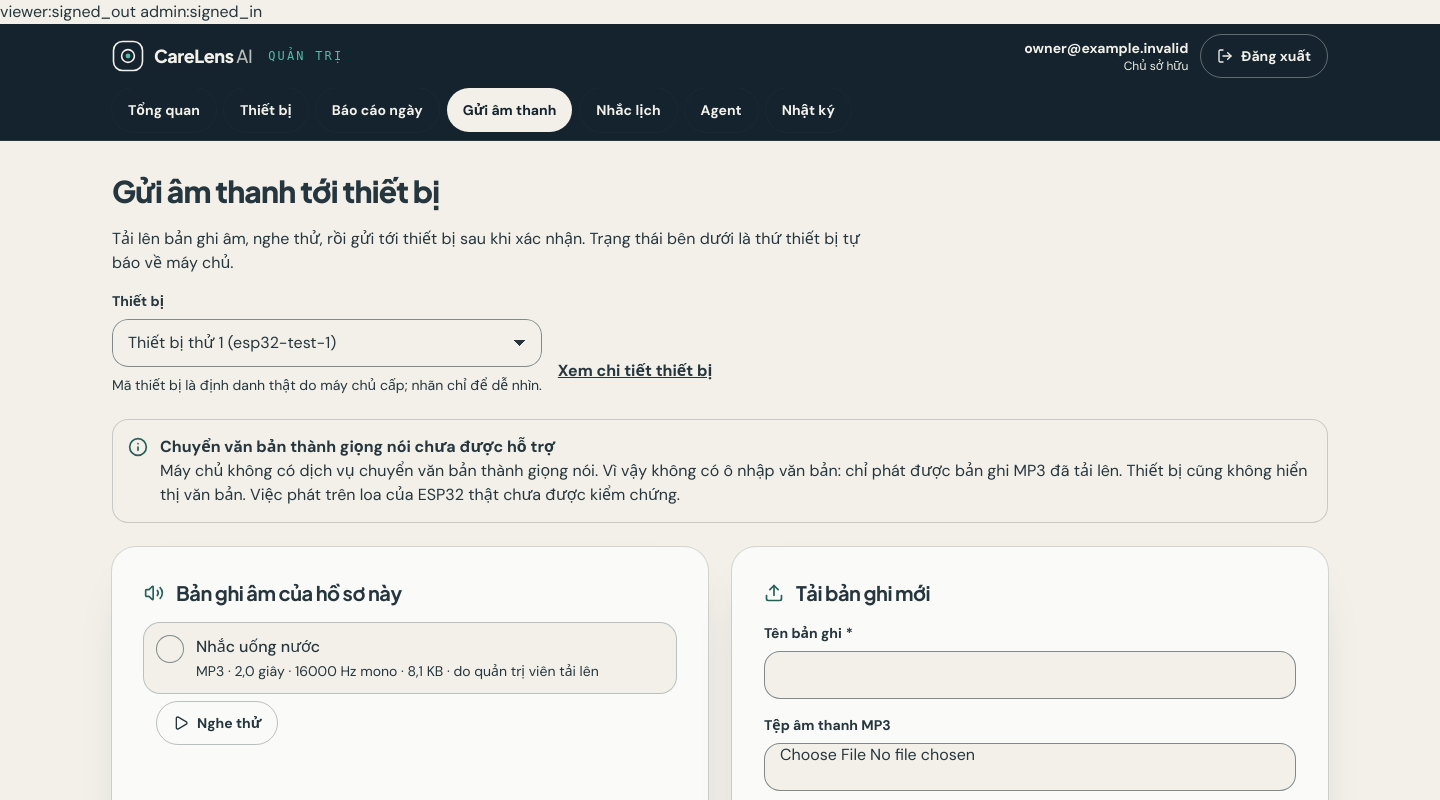
audio messages › keeps the same idempotency key after a send with an unknown outcome, so a retry cannot create a second command
Click the radio button labelled "Nhắc uống nước" at {"x": 258, "y": 646}, box [144,622,676,692]
(page scrolled)
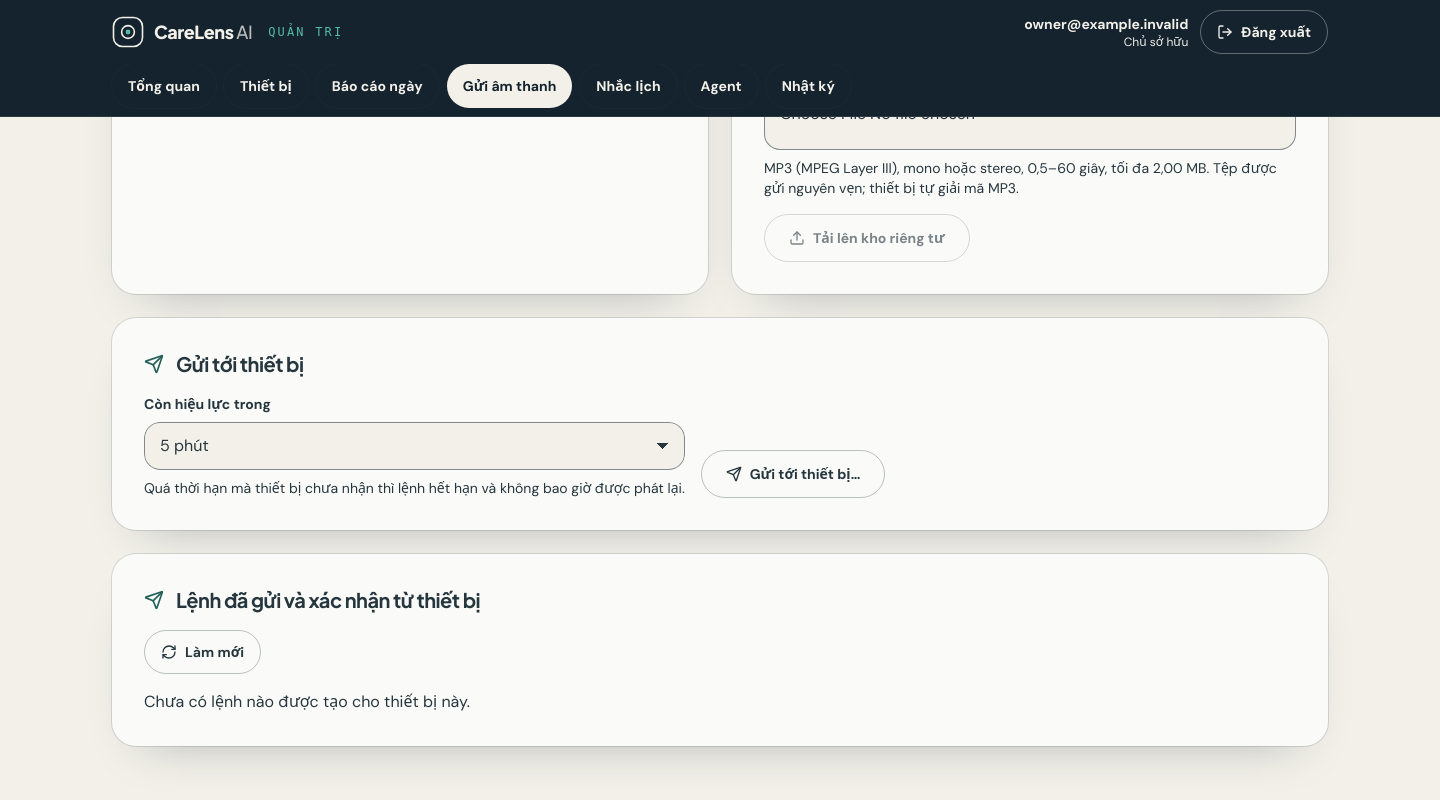
Click the button "Gửi tới thiết bị…" at {"x": 793, "y": 474}, box [701,450,885,498]
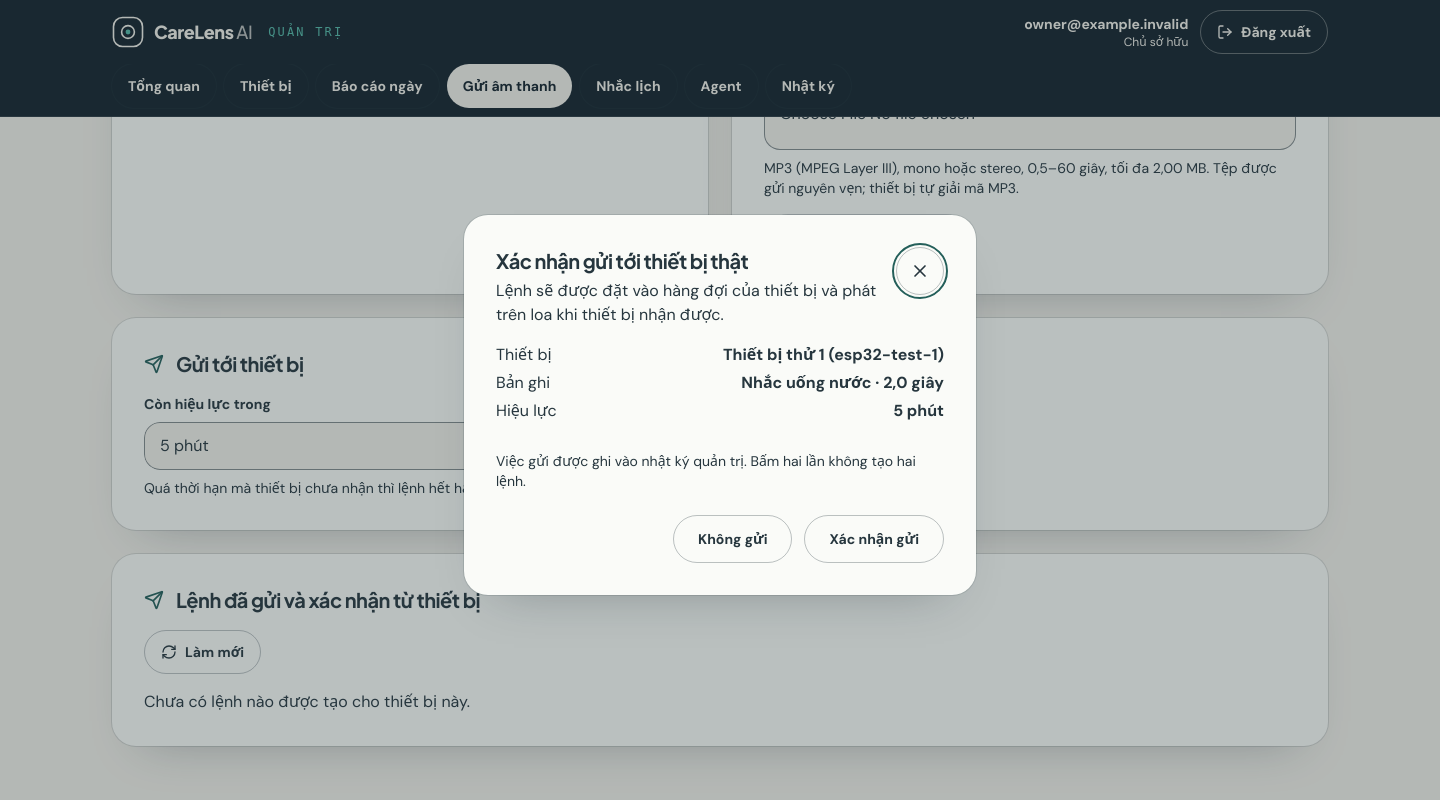
Click the button "Xác nhận gửi" at {"x": 874, "y": 539}, box [804,515,944,563]
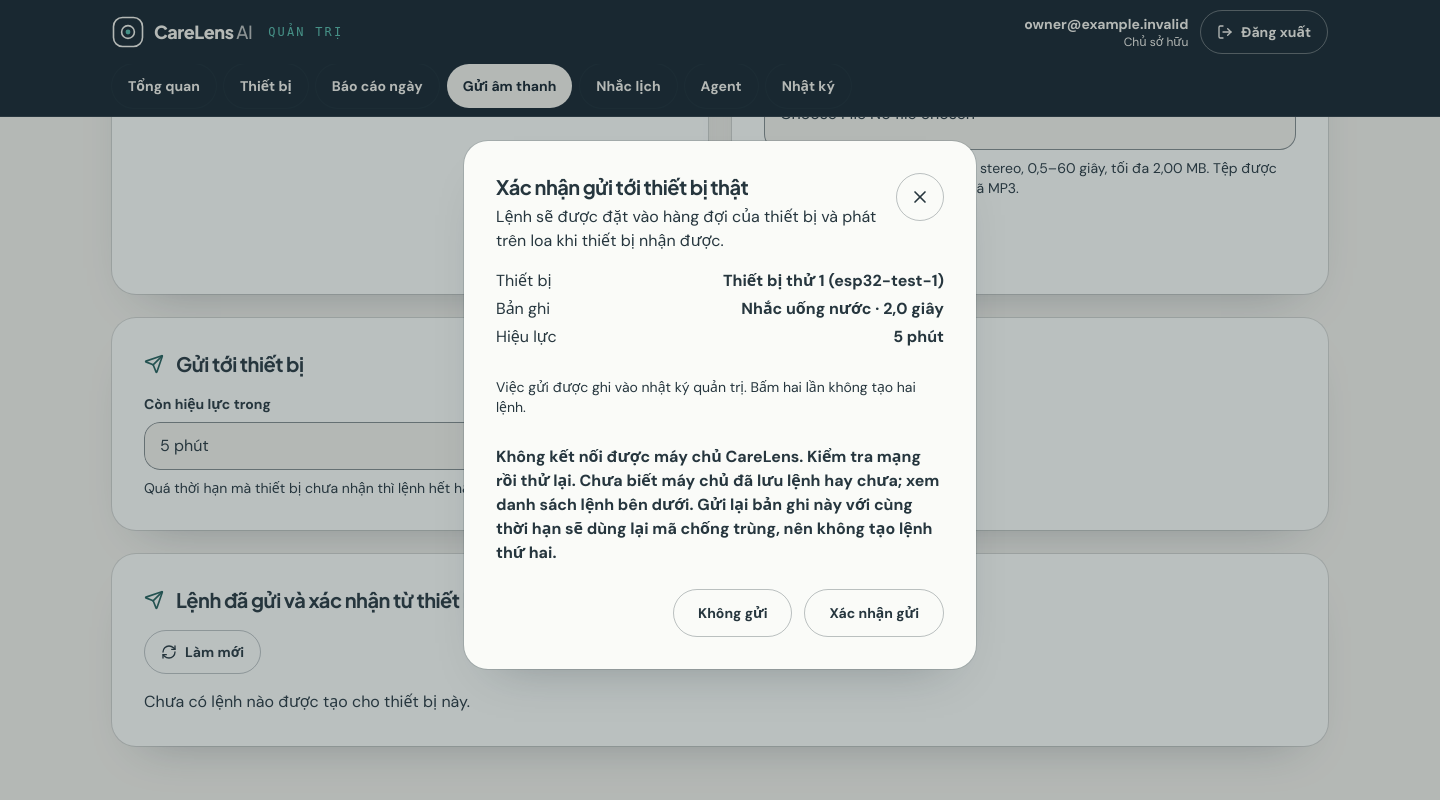
Expected: the text "Lệnh đã được máy chủ nhận" is not shown
Now the text "Chưa biết máy chủ đã lưu lệnh hay chưa" is shown, box [496,446,939,563]
Click the button "Không gửi" at {"x": 733, "y": 613}, box [673,589,792,637]
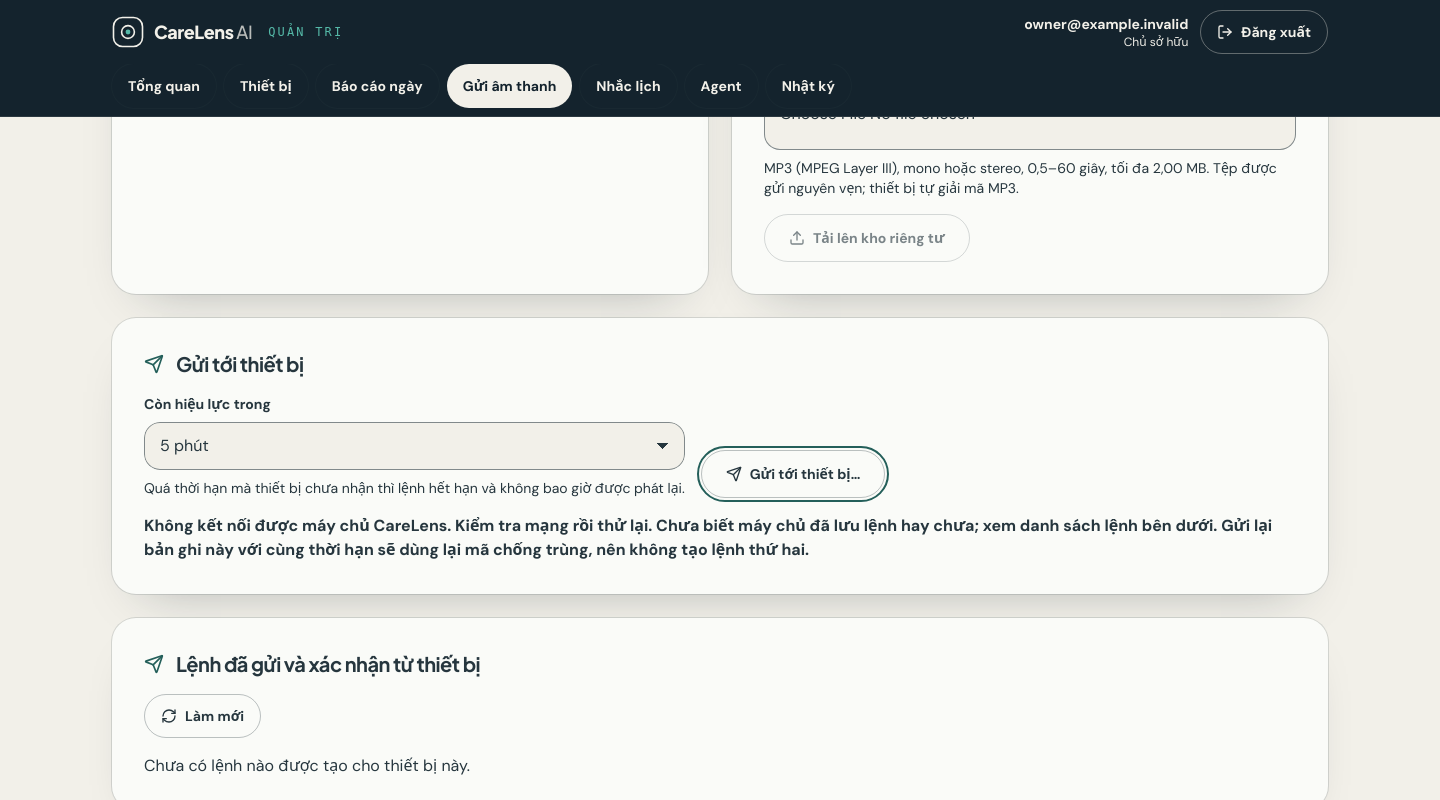
Click the button "Gửi tới thiết bị…" at {"x": 793, "y": 474}, box [701,450,885,498]
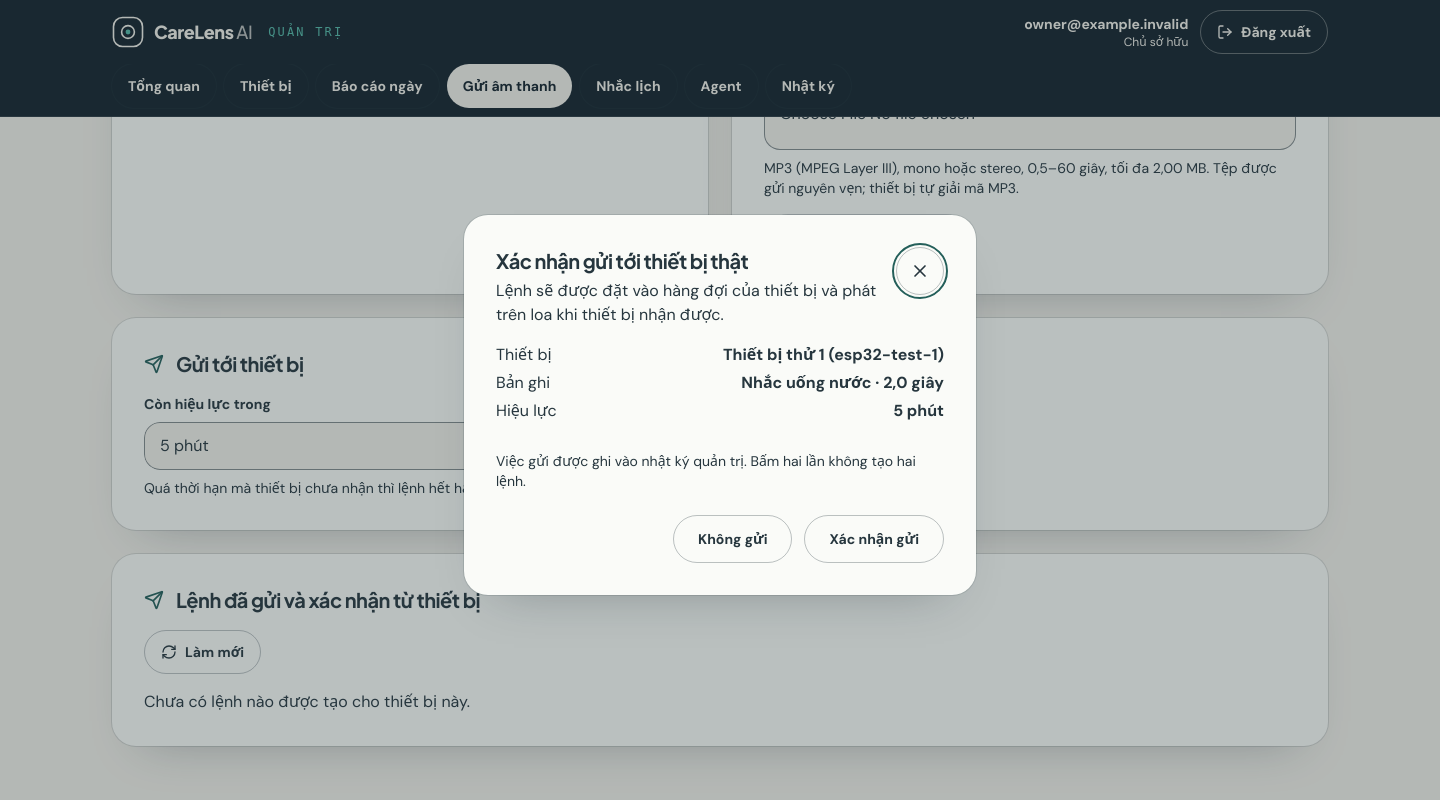
Click the button "Xác nhận gửi" at {"x": 874, "y": 539}, box [804,515,944,563]
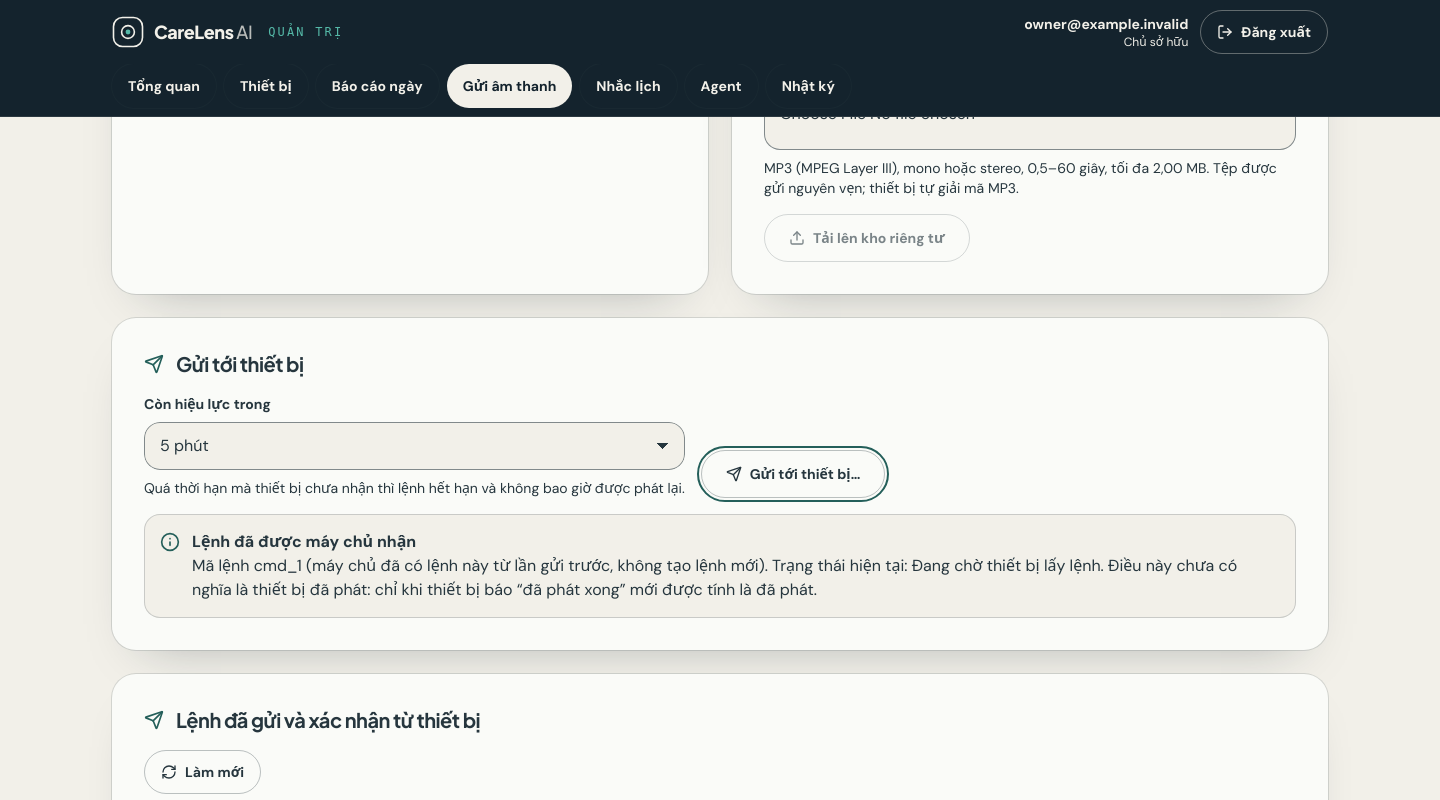
Now the text "Lệnh đã được máy chủ nhận" is shown, box [192,530,416,552]
Now the text "máy chủ đã có lệnh này từ lần gửi trước" is shown, box [302,554,765,576]
